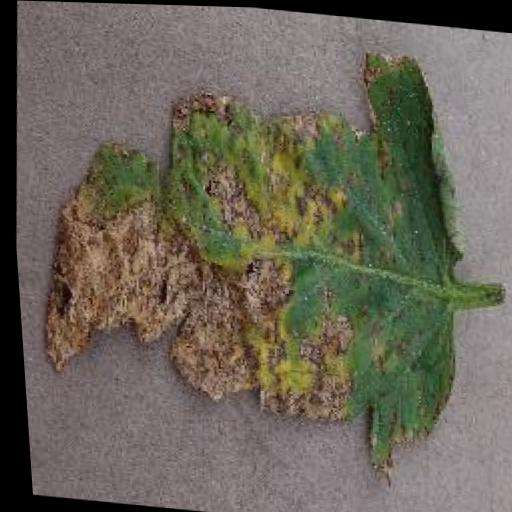Bacterial Spot: (4, 4, 499, 499)
